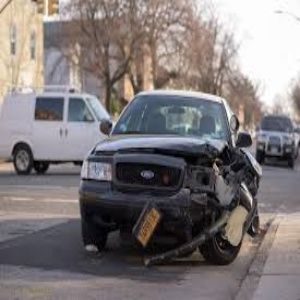bumper: (160, 193, 207, 246)
